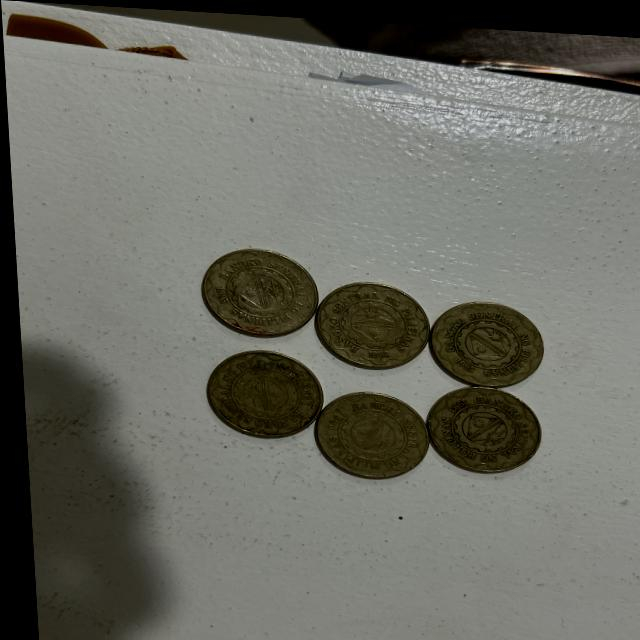5_Old_Back: (424, 285, 540, 386), (195, 347, 321, 439), (192, 245, 317, 335), (422, 378, 538, 469), (308, 384, 420, 477), (314, 278, 426, 368)
